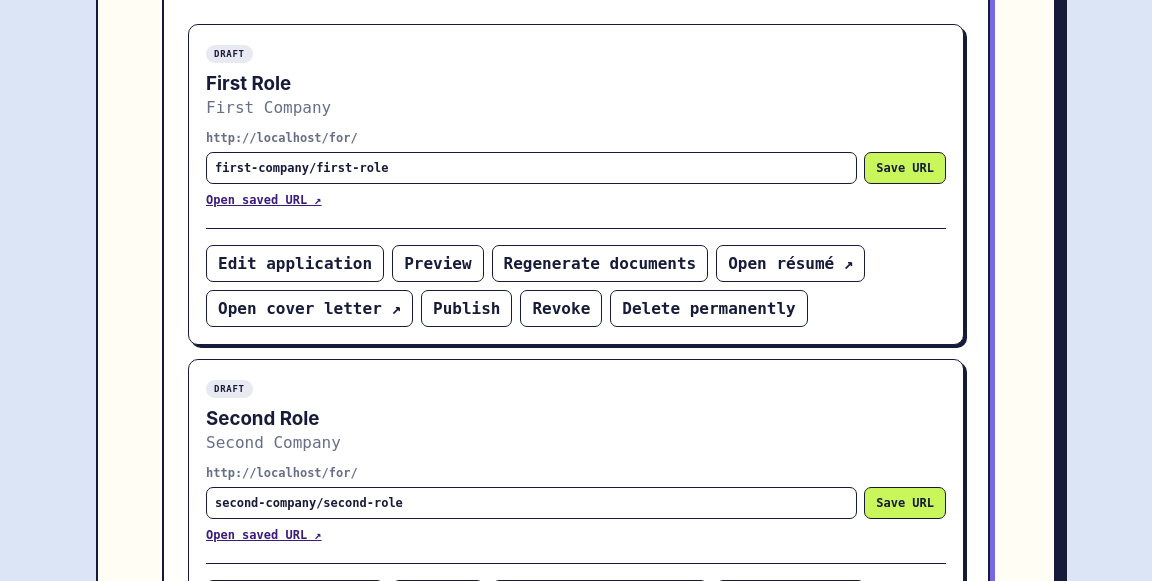
Test: shows each application preview directly inside its application card
(page scrolled)
Expected: the element "First Role" is shown, [188,24,964,345]
Click the button "Preview" below "First Company". click: (438, 264)
box: [392,245,484,282]
(page scrolled)
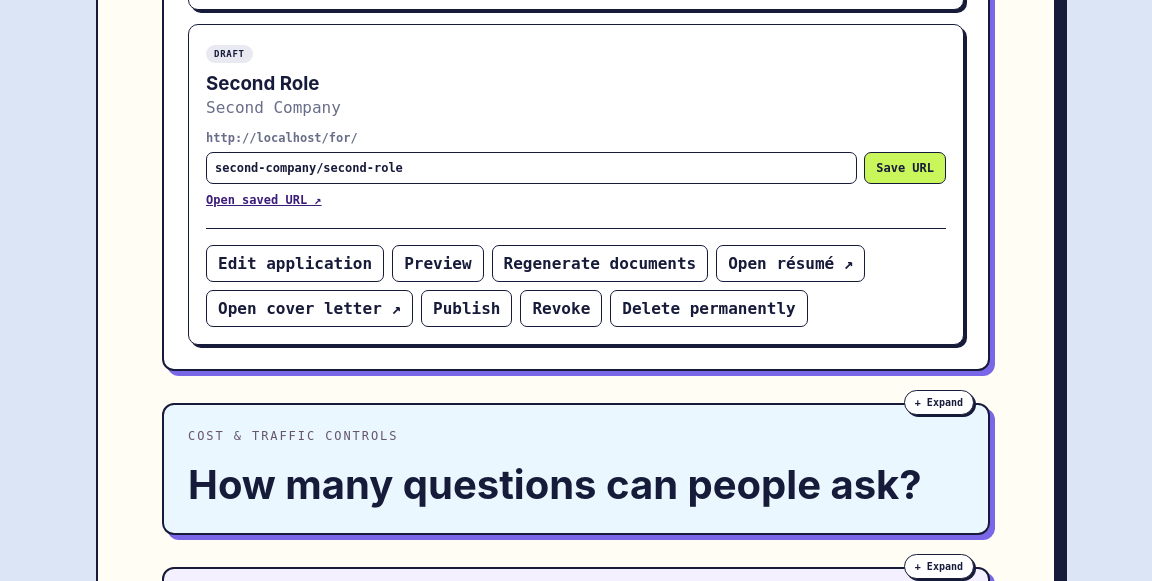
Click the button "Preview". click: (438, 264)
box: [392,246,484,282]
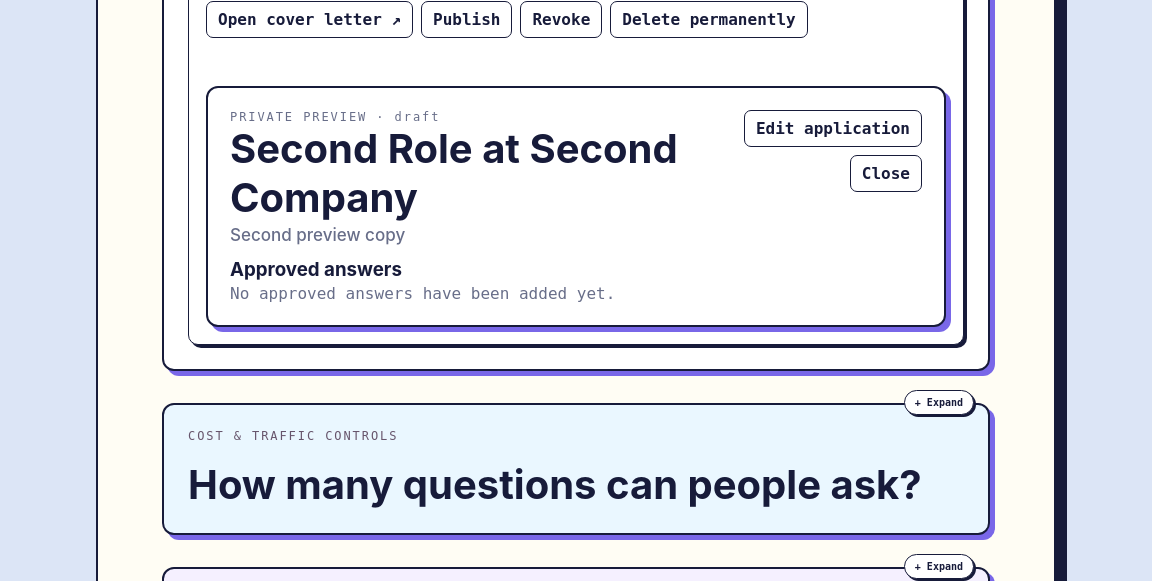
Result: the text "PRIVATE PREVIEW · draft" is shown once at [230,110,440,124]
Result: the text "Second preview copy" is shown at [230,225,405,245]
